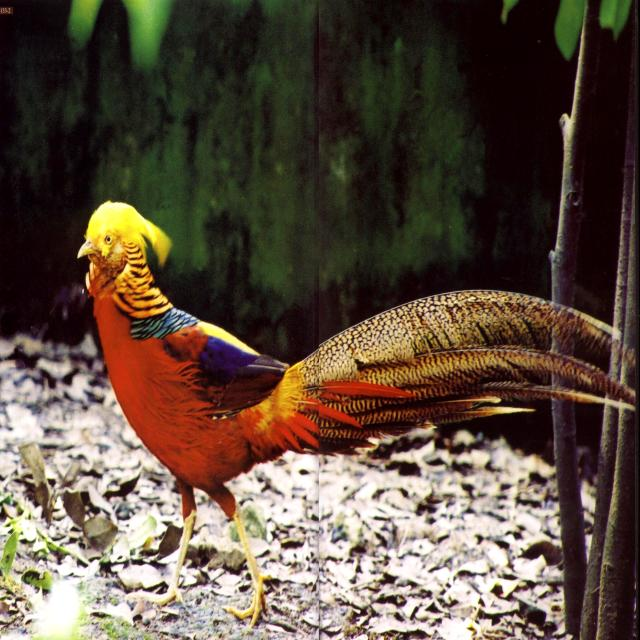Chrysolophus pictus feather: (300, 290, 635, 442)
